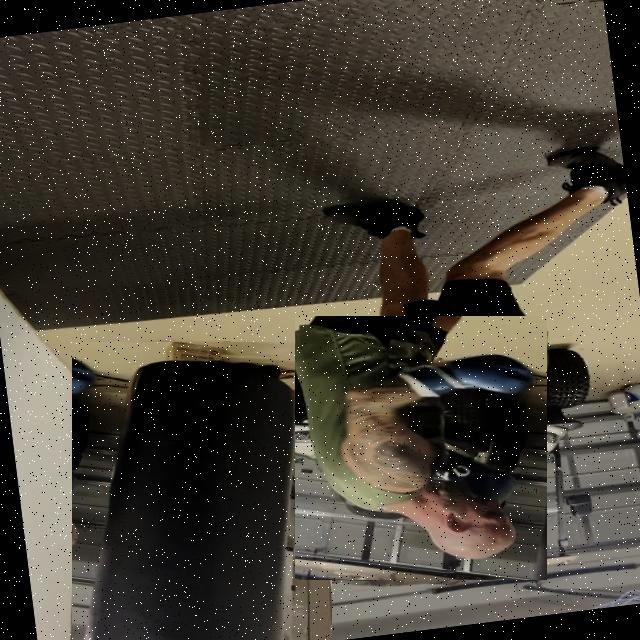punch: (295, 316, 547, 580)
